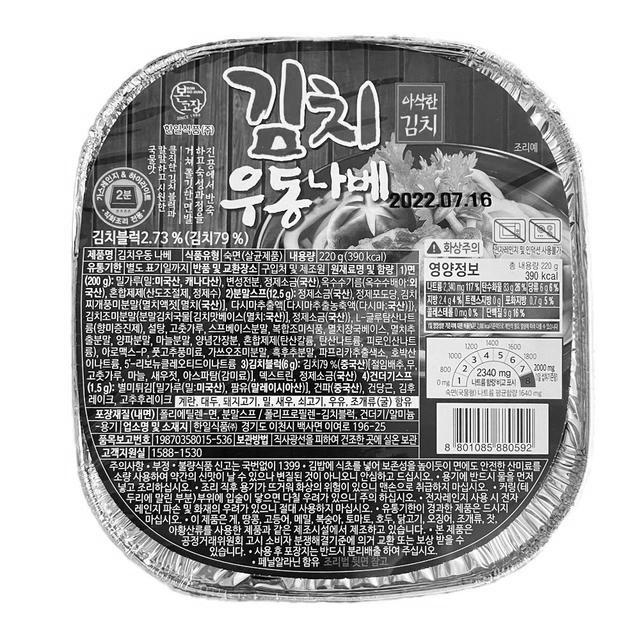Nutrition Label: (426, 257, 577, 337)
